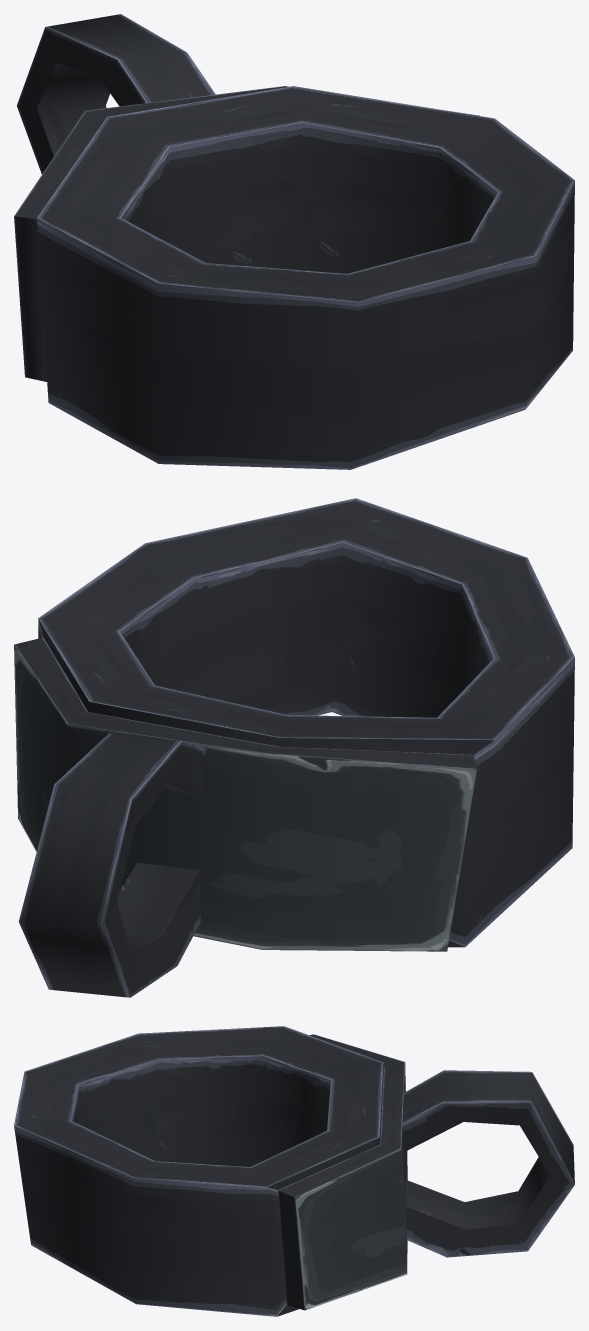
The model's file is SM_PROP_handcuff_dungeon.fbx.
3 views of the same model, one above another, from view 1: azimuth 30°, elevation 25°; view 2: azimuth 150°, elevation 25°; view 3: azimuth 270°, elevation 25° (orthographic). The views are drawn at different scales.
Visible parts, largest first — view 1: SM_PROP_handcuff_dungeon; view 2: SM_PROP_handcuff_dungeon; view 3: SM_PROP_handcuff_dungeon.
Part boxes in pixels (<box>): SM_PROP_handcuff_dungeon: <box>14,14,574,469</box>; SM_PROP_handcuff_dungeon: <box>14,498,574,997</box>; SM_PROP_handcuff_dungeon: <box>14,1026,574,1316</box>.
Bounding box in the file's own units: 16.19 × 7.79 × 23.57.
